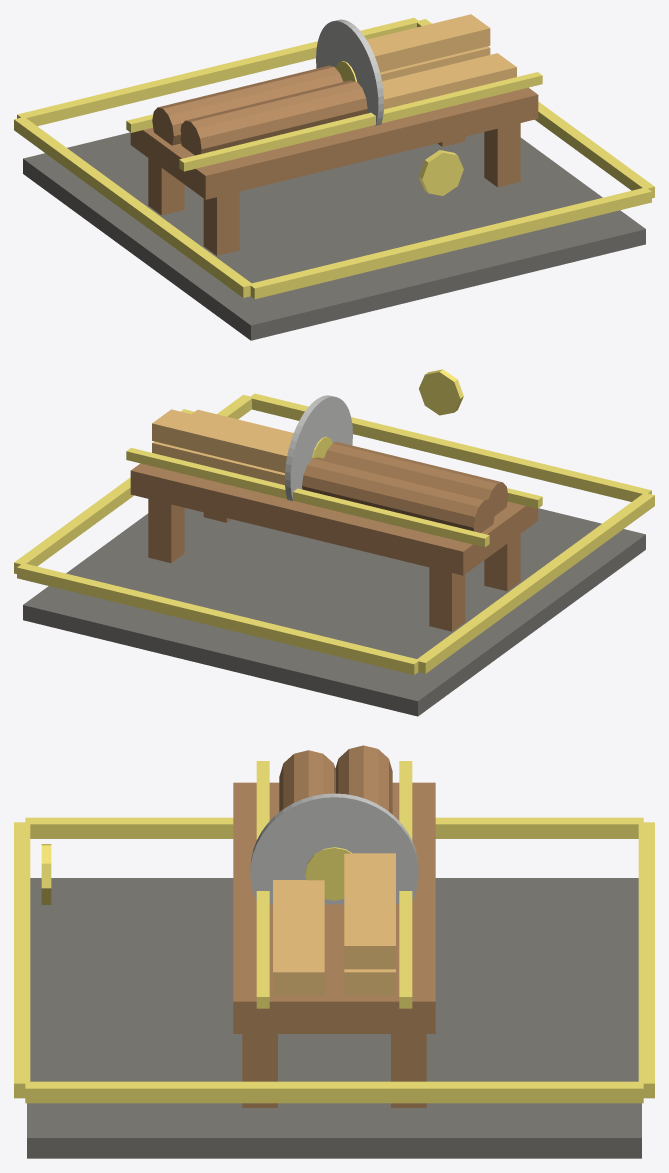
File: t7_sawmill.glb
The picture shows the model from 3 angles, top to bottom: view 1: azimuth 30°, elevation 25°; view 2: azimuth 150°, elevation 25°; view 3: azimuth 270°, elevation 25°; orthographic projection. The views are drawn at different scales.
Visible parts, largest first — view 1: FootprintBase, TableTop, TierFrontTrim, InputLogA, TierBackTrim, TierLeftTrim, LeftRail, InputLogB, OutputPlank.001, OutputPlank.002, SawBlade, TierRightTrim (+5 smaller); view 2: FootprintBase, TableTop, TierBackTrim, InputLogB, TierFrontTrim, TierLeftTrim, RightRail, OutputPlank.001, InputLogA, SawBlade, TierRightTrim, TableLeg.001 (+6 smaller); view 3: FootprintBase, TableTop, TierRightTrim, SawBlade, TierLeftTrim, OutputPlank.001, OutputPlank.002, TierBackTrim, TierFrontTrim, InputLogB, LeftRail, RightRail (+6 smaller).
Part boxes in pixels (box(x1,y1,x2,y2)): FootprintBase: box(23, 132, 645, 340); TableTop: box(130, 87, 538, 199); TierFrontTrim: box(249, 188, 651, 299); InputLogA: box(180, 80, 367, 155); TierBackTrim: box(17, 17, 419, 126); TierLeftTrim: box(14, 117, 251, 297); LeftRail: box(179, 72, 542, 171); InputLogB: box(152, 65, 343, 145); OutputPlank.001: box(367, 14, 490, 72); OutputPlank.002: box(382, 53, 516, 109); SawBlade: box(316, 19, 383, 125); TierRightTrim: box(417, 19, 654, 198); FootprintBase: box(23, 508, 645, 716); TableTop: box(130, 463, 538, 575); TierBackTrim: box(17, 564, 419, 674); InputLogB: box(302, 457, 494, 532); TierFrontTrim: box(249, 393, 651, 501); TierLeftTrim: box(417, 492, 654, 673); RightRail: box(126, 448, 489, 547); OutputPlank.001: box(152, 409, 291, 472); InputLogA: box(324, 442, 508, 515); SawBlade: box(285, 395, 352, 501); TierRightTrim: box(14, 395, 251, 573); TableLeg.001: box(429, 567, 465, 631); FootprintBase: box(27, 878, 641, 1158); TableTop: box(233, 782, 435, 1033); TierRightTrim: box(25, 1081, 643, 1103); SawBlade: box(250, 793, 418, 904); TierLeftTrim: box(25, 817, 643, 838); OutputPlank.001: box(344, 853, 395, 969); OutputPlank.002: box(273, 880, 324, 995); TierBackTrim: box(638, 822, 654, 1098); TierFrontTrim: box(14, 822, 30, 1098); InputLogB: box(335, 745, 392, 814); LeftRail: box(256, 761, 269, 1008); RightRail: box(399, 761, 412, 1008).
Size of the model in its own units: 3.96 by 1.66 by 3.96.
